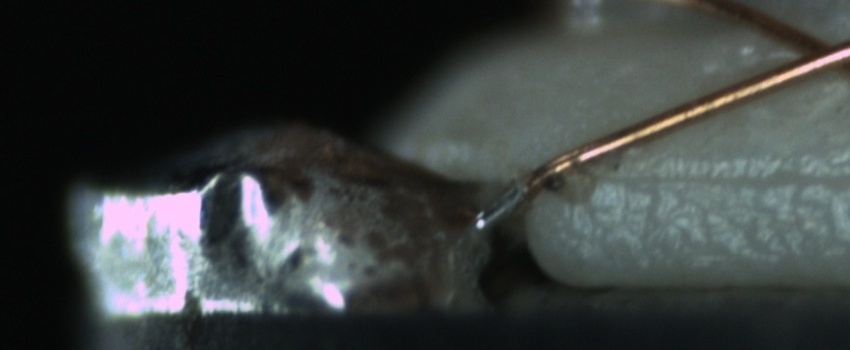CL: (765, 16, 849, 82)
DL: (610, 139, 843, 213)
TS: (479, 180, 525, 228)
